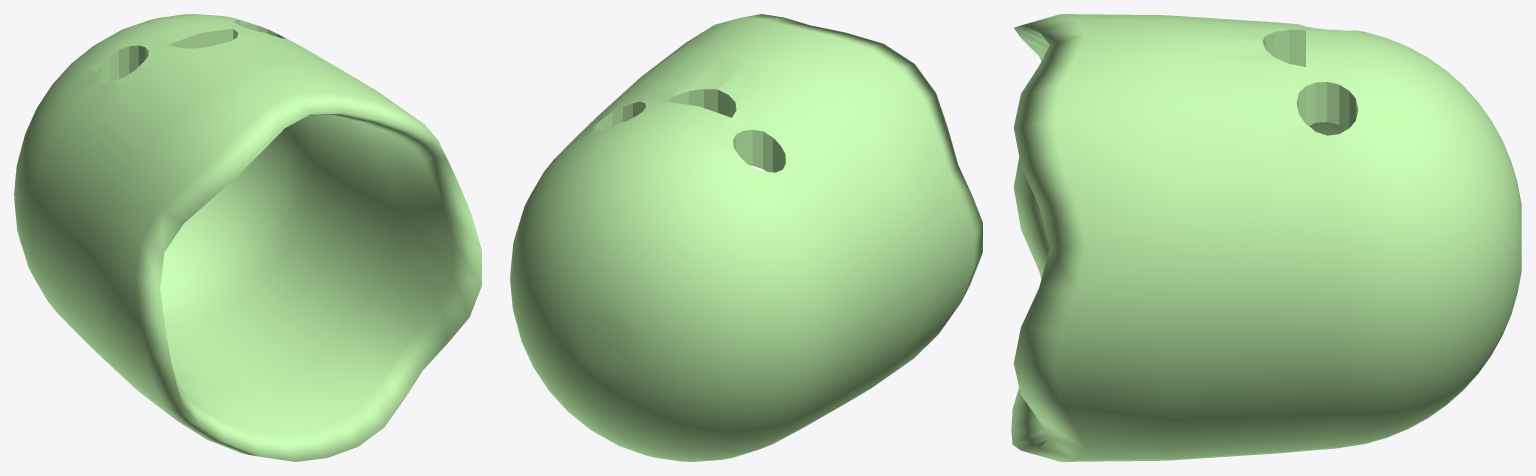
File: fantasma verde.fbx
3 renders of one model, left to right at view 1: azimuth 30°, elevation 25°; view 2: azimuth 150°, elevation 25°; view 3: azimuth 270°, elevation 25°, orthographic. The views are drawn at different scales.
Parts seen in each view (by area): view 1: fantasma_verde; view 2: fantasma_verde; view 3: fantasma_verde.
Part boxes in pixels (x1=…): fantasma_verde: x1=14, y1=14, x2=481, y2=461; fantasma_verde: x1=510, y1=14, x2=982, y2=461; fantasma_verde: x1=1011, y1=14, x2=1521, y2=461.
Bounding box in the file's own units: 2.05 × 2.33 × 2.05.
